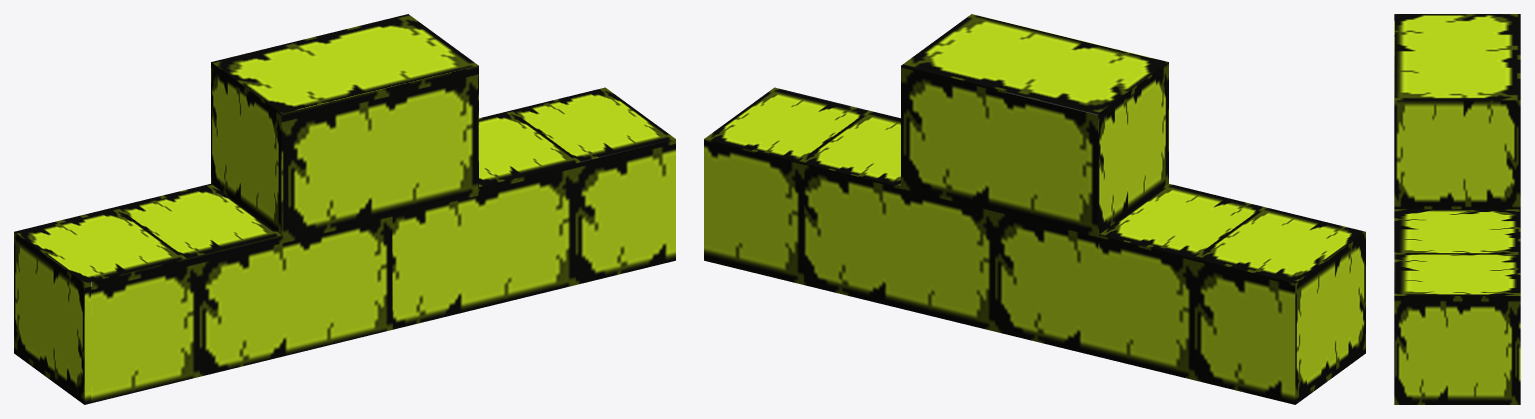
File: tri wall.fbx
3 views of the same model, side by side, from view 1: azimuth 30°, elevation 25°; view 2: azimuth 150°, elevation 25°; view 3: azimuth 270°, elevation 25° (orthographic). The views are drawn at different scales.
Visible parts, largest first — view 1: Cube; view 2: Cube; view 3: Cube.
Part boxes in pixels (x1,y1,x2,y2): Cube: (14,14,675,404); Cube: (704,14,1365,404); Cube: (1394,14,1520,404).
Size of the model in its own units: 200 by 78.57 by 41.3.
